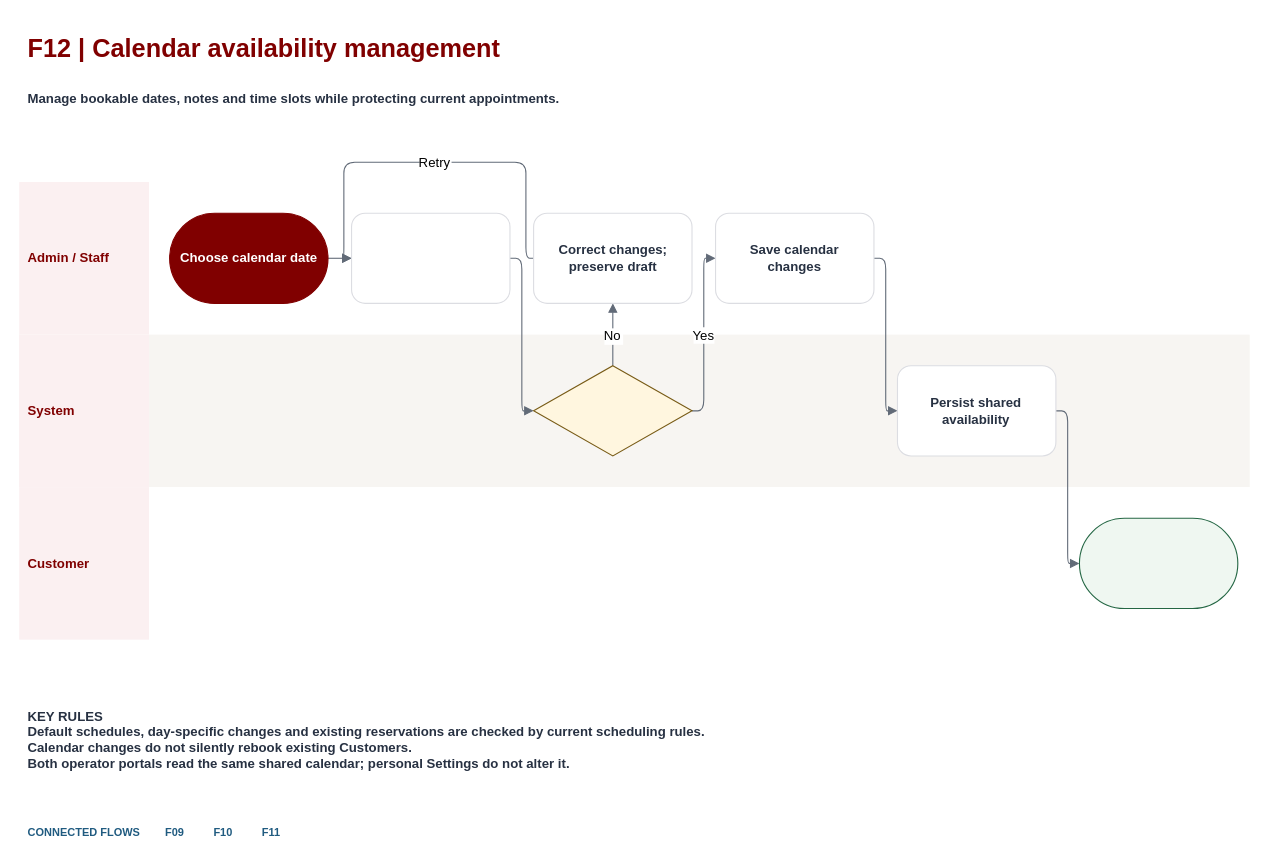
Image size: 1268x860. Some labels were removed from this diagram. The centre of each missing label's shape, as x and y in pixels:
"Changes valid?" belongs at pixel 612 410.
"Edit blocks, notes or time slots" belongs at pixel 430 257.
"See updated bookable slots" belongs at pixel 1158 563.
